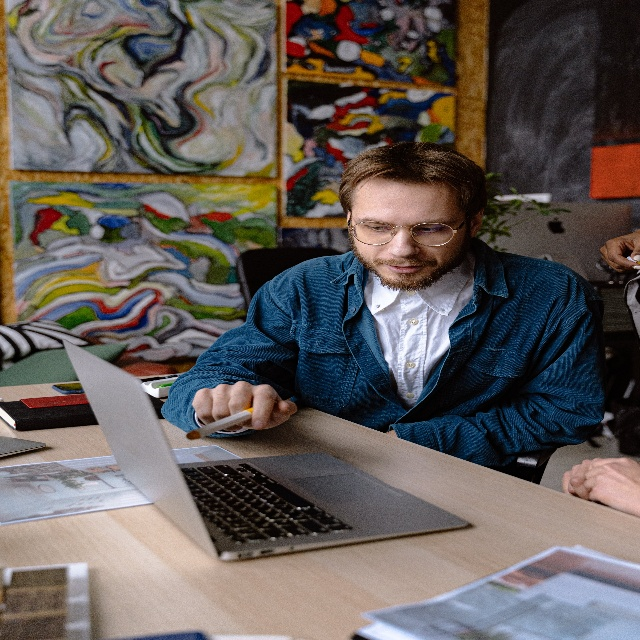Gafas: (347, 212, 471, 246)
Sin_guantes: (192, 380, 297, 432), (583, 457, 640, 517), (599, 231, 640, 274), (561, 459, 591, 500)
